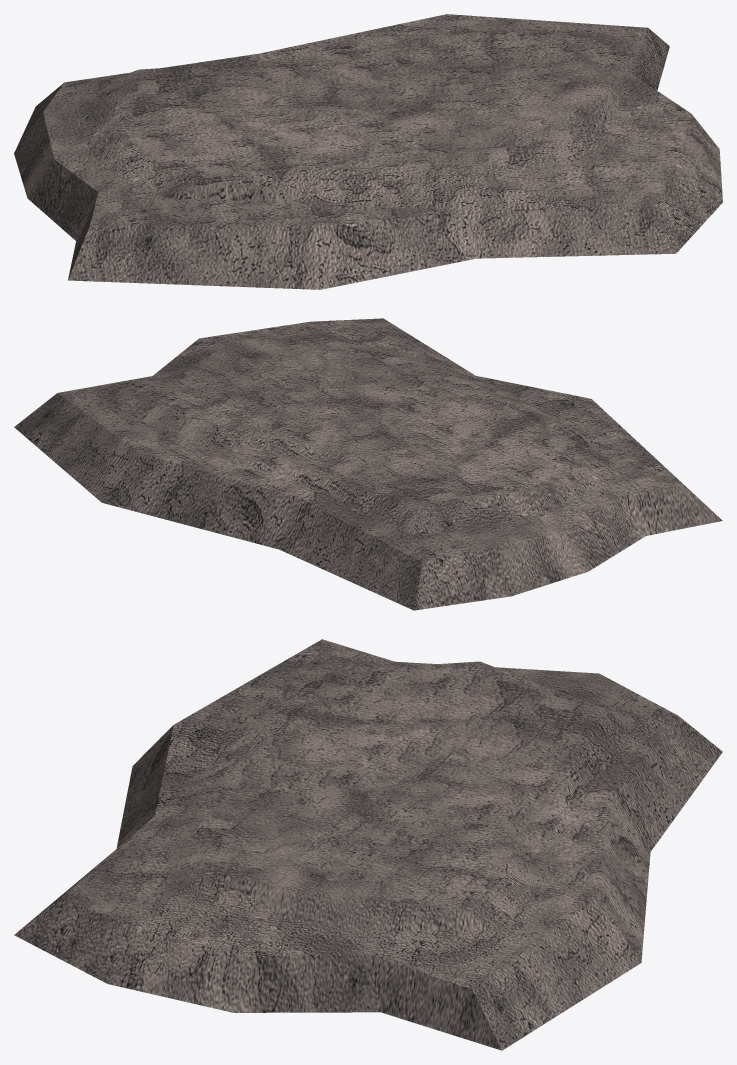
File: FlatRock1.FBX
3 views of the same model, one above another, from view 1: azimuth 30°, elevation 25°; view 2: azimuth 150°, elevation 25°; view 3: azimuth 270°, elevation 25° (orthographic). The views are drawn at different scales.
Parts seen in each view (by area): view 1: FlatRock1; view 2: FlatRock1; view 3: FlatRock1.
Boxes of the visible parts, x1,y1,x2,y2 form: FlatRock1: [14, 14, 722, 289]; FlatRock1: [14, 318, 722, 610]; FlatRock1: [14, 639, 722, 1050].
Bounding box in the file's own units: 139 × 13.98 × 108.
1 material, 1 textured.
